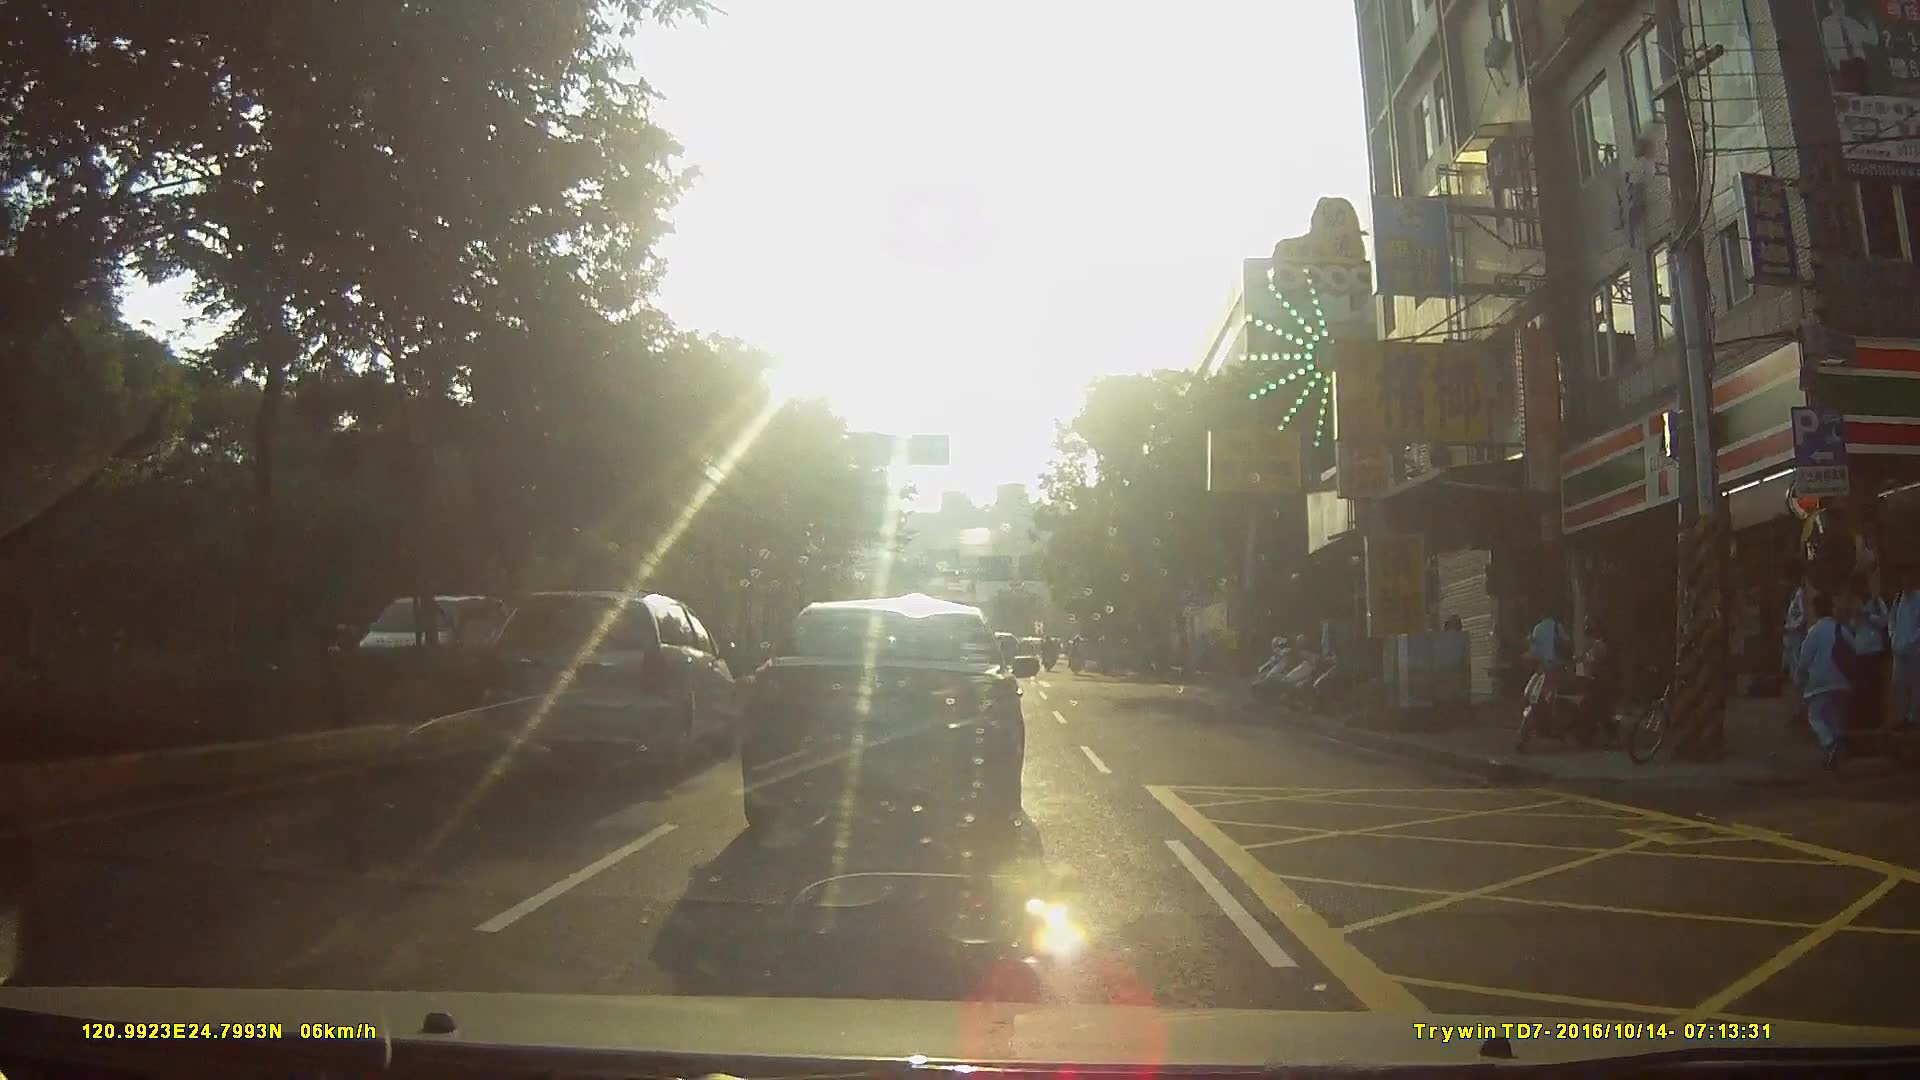pedestrian: (1803, 596, 1874, 779), (1778, 548, 1824, 745), (1568, 617, 1620, 753), (1525, 604, 1581, 720), (1882, 563, 1920, 732)
vehicle: (739, 600, 1045, 853), (475, 587, 751, 773), (357, 590, 552, 697)
